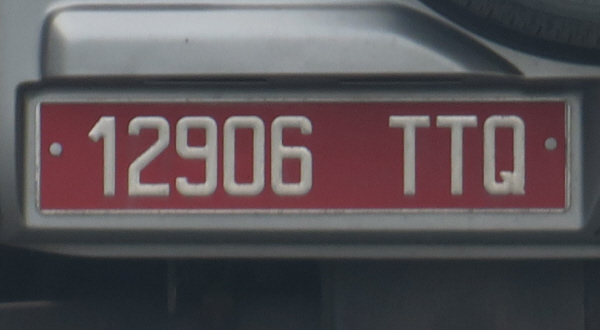license_plate: (35, 99, 570, 215)
